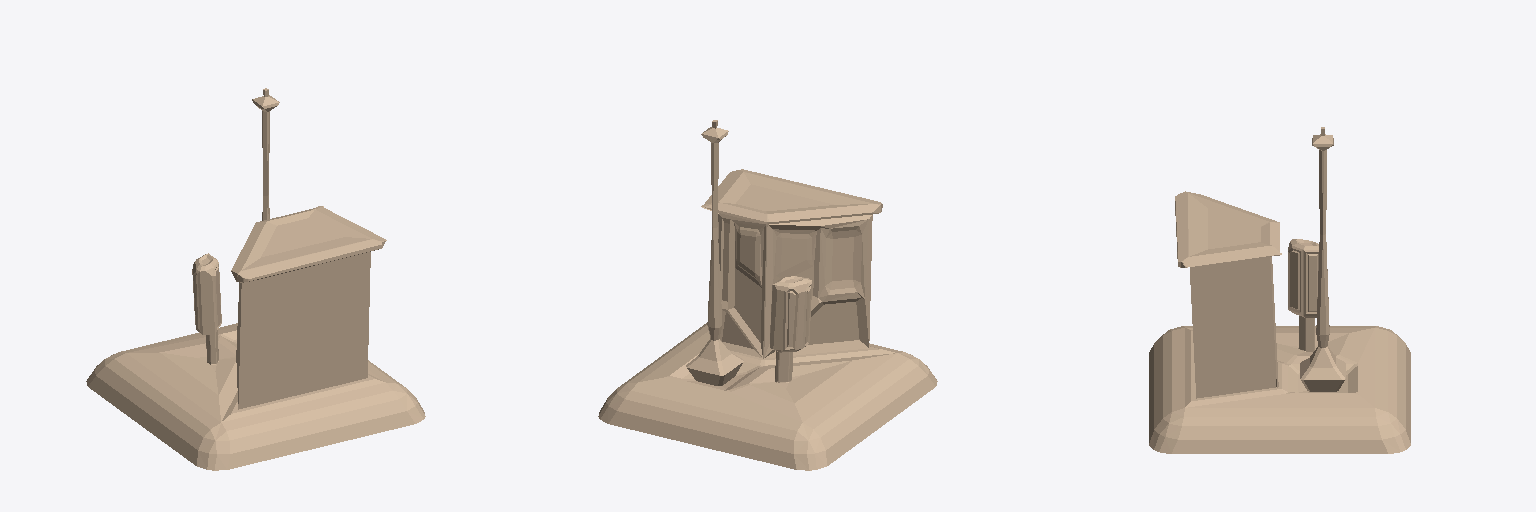
Rendered from town.obj.
3 views of the same model, side by side, from view 1: azimuth 30°, elevation 25°; view 2: azimuth 150°, elevation 25°; view 3: azimuth 270°, elevation 25° (orthographic).
Parts seen in each view (by area): view 1: Cube1, Cube1_extract2; view 2: Cube1, Cube1_extract2; view 3: Cube1, Cube1_extract2.
Boxes of the visible parts, box(x1,y1,x2,y2) form: Cube1: box(86, 88, 425, 470); Cube1_extract2: box(192, 253, 221, 334); Cube1: box(598, 120, 937, 470); Cube1_extract2: box(770, 276, 811, 352); Cube1: box(1149, 127, 1410, 453); Cube1_extract2: box(1288, 239, 1318, 317).
Size of the model in its own units: 2 by 2.4 by 2.